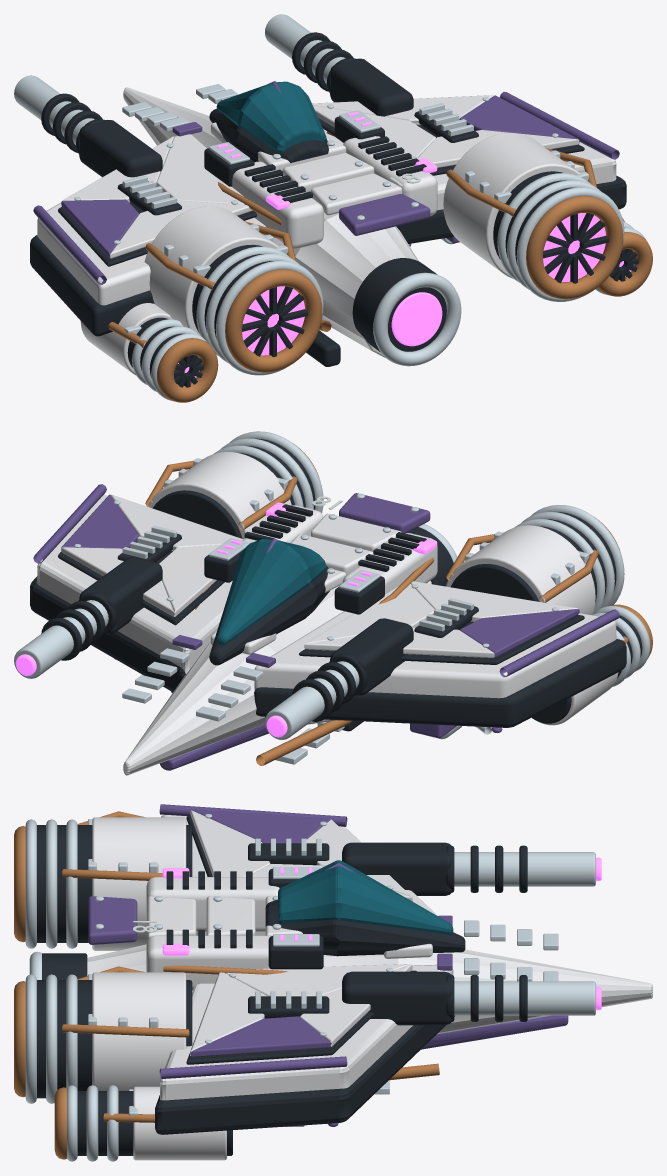
3 views of the same model, one above another, from view 1: azimuth 30°, elevation 25°; view 2: azimuth 150°, elevation 25°; view 3: azimuth 270°, elevation 25° (orthographic). The views are drawn at different scales.
Visible parts, largest first — view 1: SolidHull_18; view 2: SolidHull_18; view 3: SolidHull_18.
Boxes of the visible parts, box(x1,y1,x2,y2) form: SolidHull_18: box(14, 14, 652, 402); SolidHull_18: box(14, 431, 652, 775); SolidHull_18: box(14, 804, 652, 1161).
Size of the model in its own units: 3.19 by 1.15 by 3.13.
